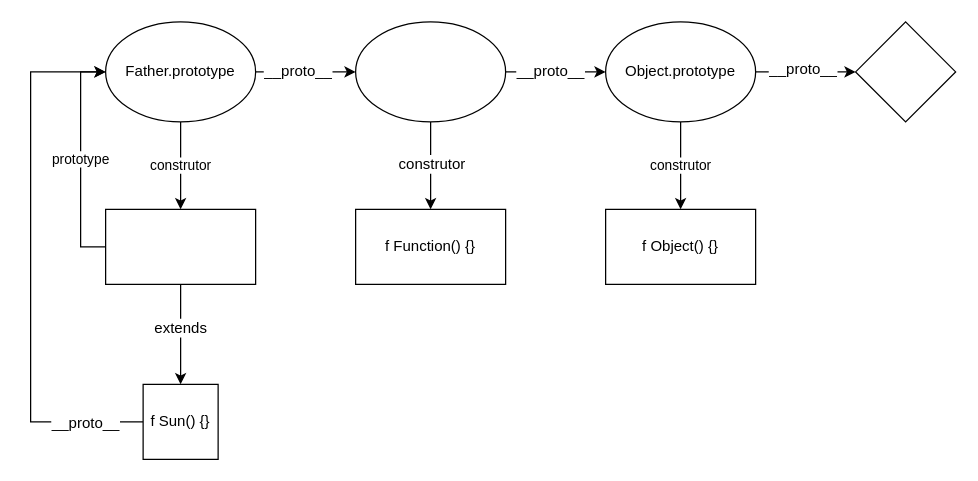
This 978x481 diagram has some shape labels left out. The shapes that lost their labels are listed below. From the top down, each one's centre as x and y in pixels, then its label:
At point (430, 71): "Function.prototype".
At point (905, 71): "null".
At point (180, 246): "f Father() {}".
